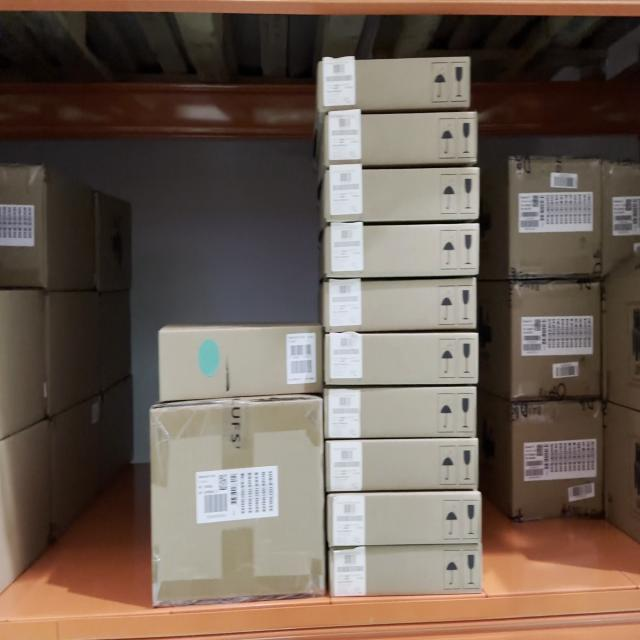box: (152, 400, 322, 602), (511, 403, 602, 518), (510, 160, 601, 272), (512, 284, 601, 398), (160, 331, 322, 389), (324, 113, 476, 165), (324, 278, 475, 330), (325, 169, 478, 220), (328, 494, 480, 544), (319, 60, 470, 109), (326, 224, 478, 272), (326, 388, 476, 436), (327, 441, 478, 485), (326, 338, 478, 381), (329, 550, 481, 590)
